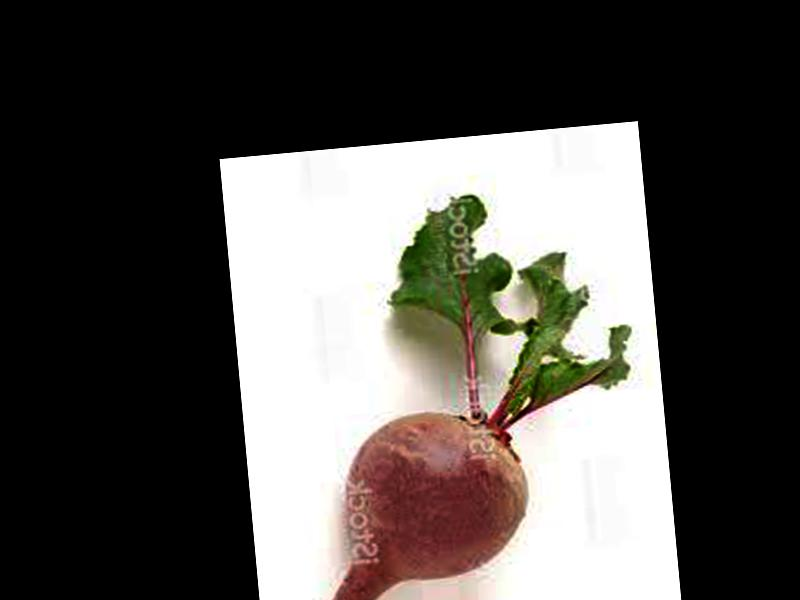Beet: (265, 179, 658, 600)
